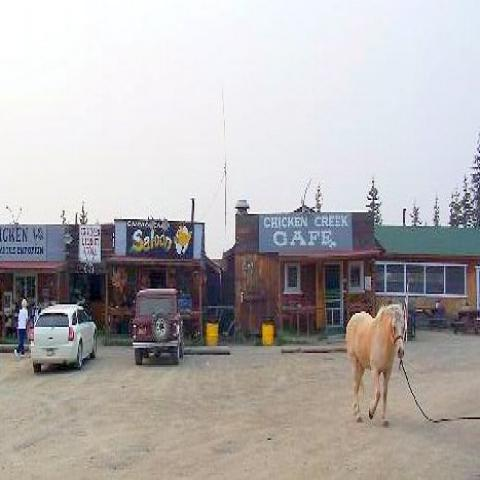car: (28, 305, 99, 368), (133, 288, 184, 366)
